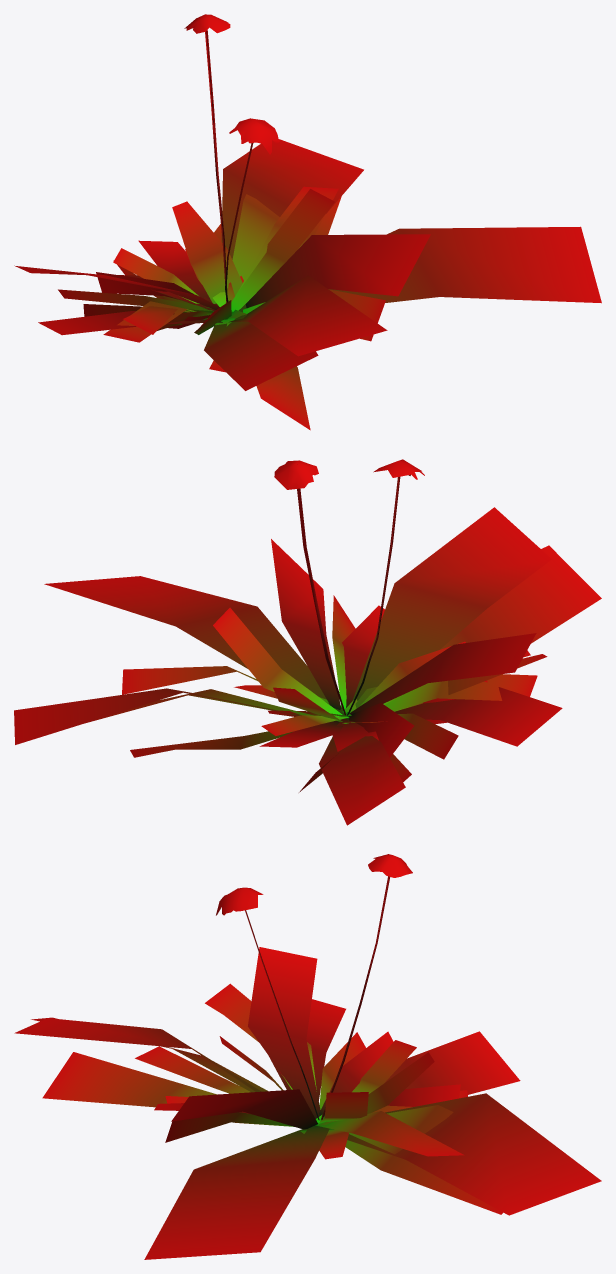
The model's file is Var3_LOD2.fbx.
3 renders of one model, top to bottom at view 1: azimuth 30°, elevation 25°; view 2: azimuth 150°, elevation 25°; view 3: azimuth 270°, elevation 25°, orthographic. The views are drawn at different scales.
Visible parts, largest first — view 1: _2ce7_Var3_LOD2; view 2: _2ce7_Var3_LOD2; view 3: _2ce7_Var3_LOD2.
Part boxes in pixels (x1,y1,x2,y2): _2ce7_Var3_LOD2: (14, 14, 601, 430); _2ce7_Var3_LOD2: (14, 459, 601, 825); _2ce7_Var3_LOD2: (14, 854, 601, 1259).
Bounding box in the file's own units: 44.28 × 23.43 × 43.53.
